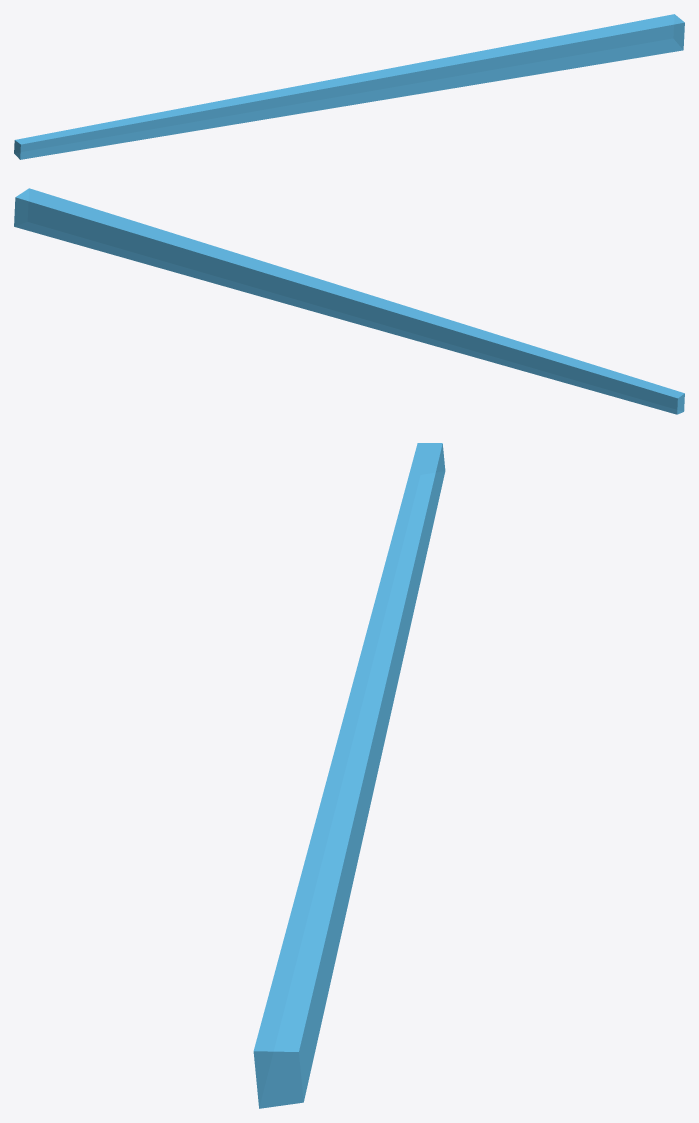
Rendered from Event_421556567_HErechit_43.fbx.
3 renders of one model, top to bottom at view 1: azimuth 30°, elevation 25°; view 2: azimuth 150°, elevation 25°; view 3: azimuth 270°, elevation 25°, orthographic. The views are drawn at different scales.
Visible parts, largest first — view 1: Model; view 2: Model; view 3: Model.
Boxes of the visible parts, box(x1,y1,x2,y2) form: Model: box(14, 14, 684, 159); Model: box(14, 188, 684, 414); Model: box(253, 443, 445, 1108).
Bounding box in the file's own units: 8.26 × 0.3646 × 1.1.
